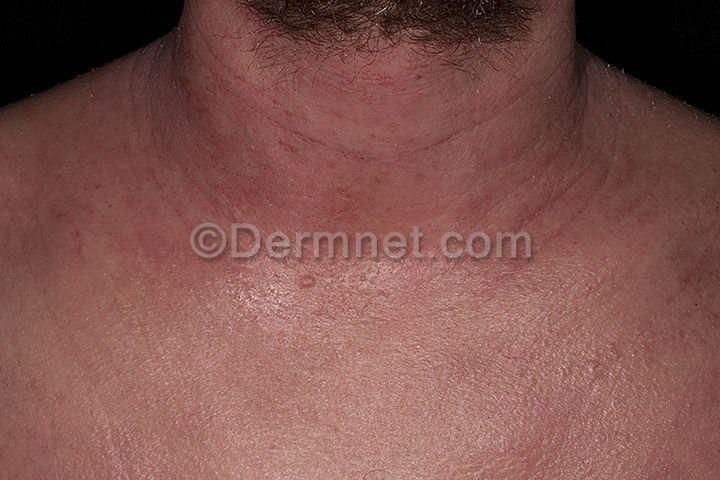Eczema: (194, 16, 555, 468), (30, 114, 173, 462), (592, 110, 708, 464)
